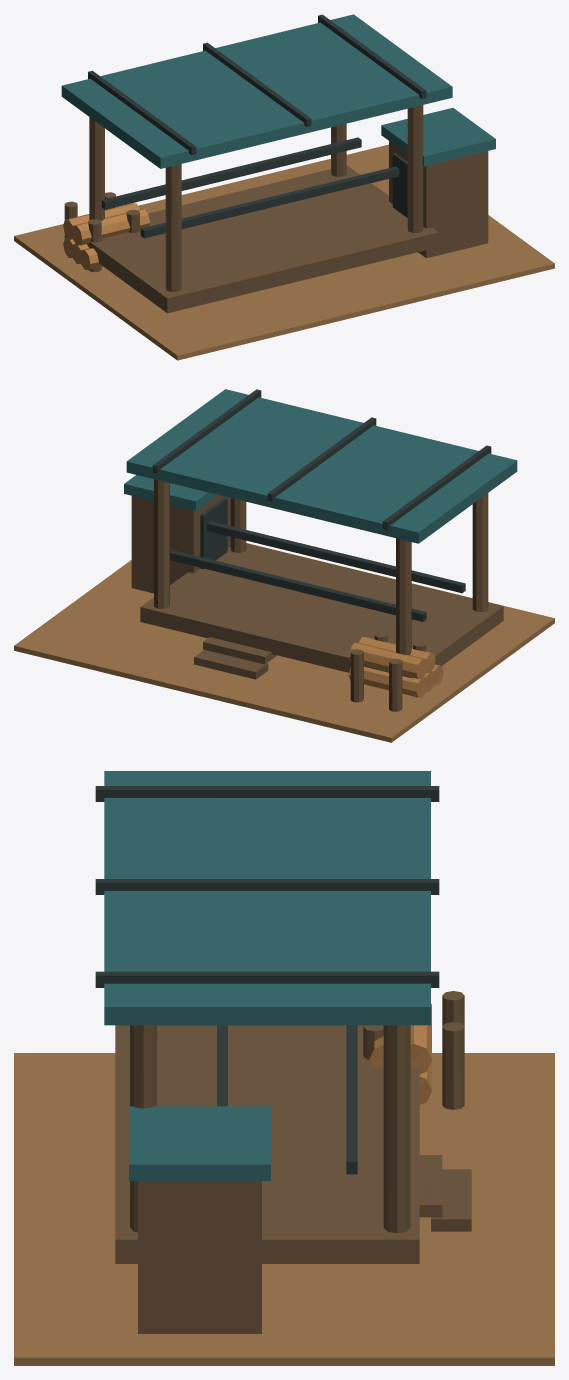
Rendered from logging-camp.source.glb.
3 views of the same model, one above another, from view 1: azimuth 30°, elevation 25°; view 2: azimuth 150°, elevation 25°; view 3: azimuth 270°, elevation 25° (orthographic). The views are drawn at different scales.
Parts seen in each view (by area): view 1: logging-camp-roof-main-mesh, logging-camp-dirt-pad-mesh, logging-camp-sorting-deck-mesh, logging-camp-locker-body-mesh, logging-camp-locker-roof-mesh, logging-camp-deck-rail--0.6-mesh, logging-camp-deck-rail-0.55-mesh, logging-camp-shelter-post--2.6-1.25-mesh, logging-camp-shelter-post-1.5-1.25-mesh, logging-camp-shelter-post--2.6--1-mesh, logging-camp-roof-rib-1.4-mesh, logging-camp-roof-rib--0.55-mesh (+5 smaller); view 2: logging-camp-roof-main-mesh, logging-camp-dirt-pad-mesh, logging-camp-sorting-deck-mesh, logging-camp-locker-body-mesh, logging-camp-deck-rail-0.55-mesh, logging-camp-deck-rail--0.6-mesh, logging-camp-shelter-post-1.5--1-mesh, logging-camp-shelter-post--2.6-1.25-mesh, logging-camp-shelter-post--2.6--1-mesh, logging-camp-locker-roof-mesh, logging-camp-stored-log-3-mesh, logging-camp-locker-door-mesh (+10 smaller); view 3: logging-camp-dirt-pad-mesh, logging-camp-roof-main-mesh, logging-camp-sorting-deck-mesh, logging-camp-locker-body-mesh, logging-camp-locker-roof-mesh, logging-camp-shelter-post-1.5--1-mesh, logging-camp-roof-rib-1.4-mesh, logging-camp-roof-rib--2.5-mesh, logging-camp-roof-rib--0.55-mesh, logging-camp-shelter-post-1.5-1.25-mesh, logging-camp-stair-0-mesh, logging-camp-rack-post--2.1--1.5-mesh (+5 smaller).
Part boxes in pixels (x1,y1,x2,y2): logging-camp-roof-main-mesh: (61,14,452,168); logging-camp-dirt-pad-mesh: (14,144,554,360); logging-camp-sorting-deck-mesh: (87,165,438,313); logging-camp-locker-body-mesh: (389,141,488,258); logging-camp-locker-roof-mesh: (381,108,495,166); logging-camp-deck-rail--0.6-mesh: (101,137,361,209); logging-camp-deck-rail-0.55-mesh: (140,166,399,238); logging-camp-shelter-post--2.6-1.25-mesh: (165,164,181,291); logging-camp-shelter-post-1.5-1.25-mesh: (407,105,423,232); logging-camp-shelter-post--2.6--1-mesh: (89,117,104,221); logging-camp-roof-rib-1.4-mesh: (318,14,426,98); logging-camp-roof-rib--0.55-mesh: (203,42,311,126); logging-camp-roof-main-mesh: (126,389,517,543); logging-camp-dirt-pad-mesh: (14,543,554,742); logging-camp-sorting-deck-mesh: (140,543,503,678); logging-camp-locker-body-mesh: (131,495,230,593); logging-camp-deck-rail-0.55-mesh: (207,521,465,593); logging-camp-deck-rail--0.6-mesh: (170,549,426,621); logging-camp-shelter-post-1.5--1-mesh: (154,479,169,608); logging-camp-shelter-post--2.6-1.25-mesh: (472,493,488,611); logging-camp-shelter-post--2.6--1-mesh: (396,538,411,655); logging-camp-locker-roof-mesh: (124,475,217,511); logging-camp-stored-log-3-mesh: (348,642,427,678); logging-camp-locker-door-mesh: (200,498,227,569); logging-camp-dirt-pad-mesh: (14,1053,554,1365); logging-camp-roof-main-mesh: (104,771,430,1025); logging-camp-sorting-deck-mesh: (115,1025,419,1263); logging-camp-locker-body-mesh: (138,1181,261,1333); logging-camp-locker-roof-mesh: (129,1106,270,1180); logging-camp-shelter-post-1.5--1-mesh: (383,1025,410,1233); logging-camp-roof-rib-1.4-mesh: (95,971,439,987); logging-camp-roof-rib--2.5-mesh: (95,786,439,801); logging-camp-roof-rib--0.55-mesh: (95,879,439,894); logging-camp-shelter-post-1.5-1.25-mesh: (130,1025,156,1232); logging-camp-stair-0-mesh: (431,1169,471,1231); logging-camp-rack-post--2.1--1.5-mesh: (442,1022,464,1109).
Size of the model in its own units: 6.4 by 3 by 4.8.
